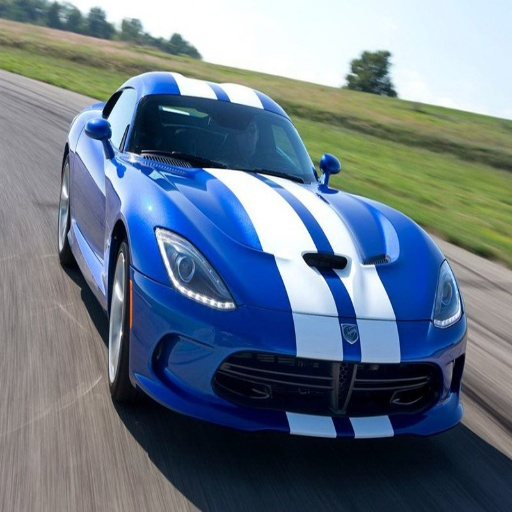front_bumper: (134, 279, 458, 438)
front_right_door: (75, 94, 122, 267)
